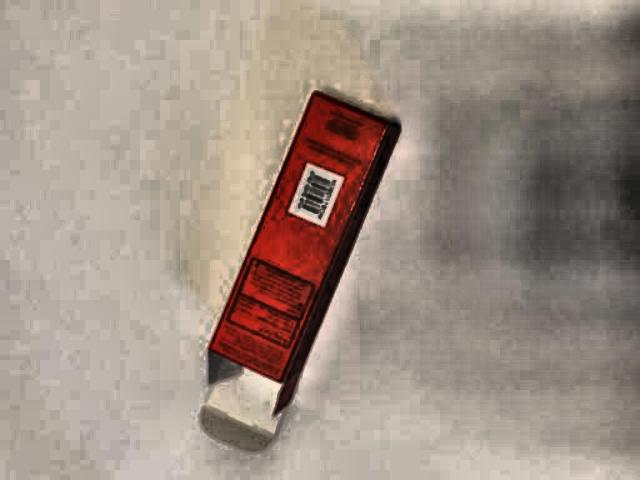Paper: (144, 70, 413, 480)
